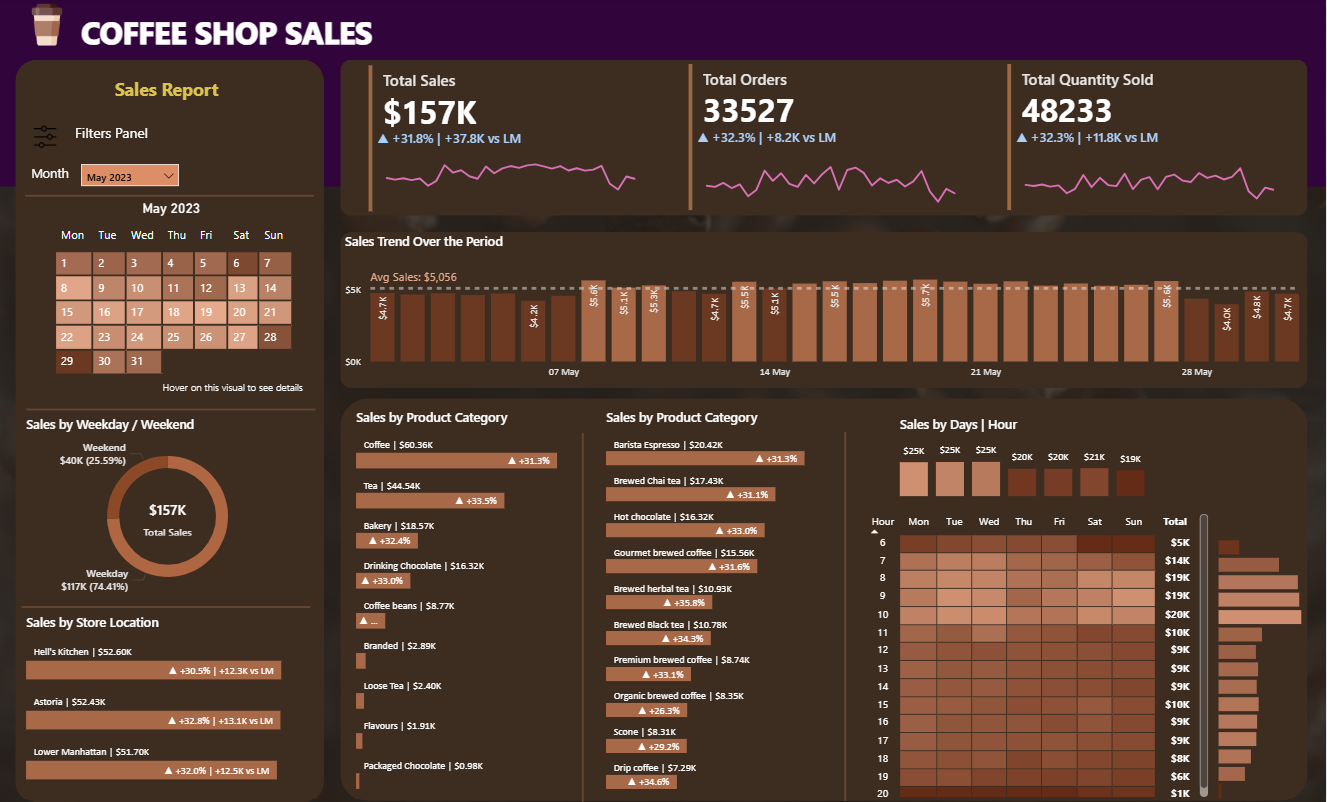

The dashboard page shown, as its layout file describes it:
{"tool":"powerbi","page":{"name":"Page 1","canvas":[1400,850],"ordinal":0},"visuals":[{"type":"shape","box":[0,0,1400,200.4],"z":0},{"type":"shape","box":[17.1,65.9,325.6,784.4],"z":1000},{"type":"shape","box":[359.9,65.9,1020.3,164.8],"z":2000},{"type":"textbox","box":[81.7,10.5,363.8,55.4],"z":3000},{"type":"cardVisual","fields":{"Data":["Transactions.Total Orders"]},"box":[721.7,65.9,300.6,164.8],"z":4000,"group":"g2"},{"type":"cardVisual","fields":{"Data":["Transactions.Total Quantity Sold"]},"box":[1058.6,65.9,300.6,164.8],"z":4000,"group":"g3"},{"type":"cardVisual","fields":{"Data":["Transactions.Total Sales"]},"box":[384.9,67.2,300.6,164.8],"z":4000,"group":"g1"},{"type":"slicer","fields":{"Values":["Date Table.Month Year"]},"box":[81.7,171.4,113.4,31.6],"z":4000},{"type":"group","id":"g1","title":"Group 1","box":[384.9,67.2,300.6,164.8],"z":5000},{"type":"group","id":"g2","title":"Group 1","box":[721.7,65.9,300.6,164.8],"z":6000},{"type":"lineChart","fields":{"Category":["Date Table.Date.Variation.Date Hierarchy.Year","Date Table.Date.Variation.Date Hierarchy.Quarter","Date Table.Date.Variation.Date Hierarchy.Month","Date Table.Date.Variation.Date Hierarchy.Day"],"Y":["Transactions.Total Orders"]},"box":[730.9,138.4,291.3,84.4],"z":6000,"group":"g2"},{"type":"lineChart","fields":{"Category":["Date Table.Date.Variation.Date Hierarchy.Year","Date Table.Date.Variation.Date Hierarchy.Quarter","Date Table.Date.Variation.Date Hierarchy.Month","Date Table.Date.Variation.Date Hierarchy.Day"],"Y":["Transactions.Total Quantity Sold"]},"box":[1067.8,138.4,291.3,84.4],"z":6000,"group":"g3"},{"type":"lineChart","fields":{"Y":["Transactions.Total Sales"],"Category":["Date Table.Date.Variation.Date Hierarchy.Year","Date Table.Date.Variation.Date Hierarchy.Quarter","Date Table.Date.Variation.Date Hierarchy.Month","Date Table.Date.Variation.Date Hierarchy.Day"]},"box":[394.1,139.7,291.3,84.4],"z":6000,"group":"g1"},{"type":"group","id":"g3","title":"Group 1","box":[1058.6,65.9,300.6,164.8],"z":7000},{"type":"pivotTable","fields":{"Rows":["Date Table.Week Number"],"Columns":["Date Table.Day Name"],"Values":["Min(Date Table.Day Number)"]},"box":[29,234.6,304.5,189.8],"z":8000},{"type":"card","fields":{"Values":["Min(Date Table.Month Year)"]},"box":[123.9,209.6,116,29],"z":9000},{"type":"card","fields":{"Values":["Transactions.Foot Note"]},"box":[159.5,399.4,174,25],"z":10000},{"type":"shape","box":[29,428.4,304.5,13.2],"z":11000},{"type":"shape","box":[27.7,203,304.5,13.2],"z":12000},{"type":"donutChart","title":"Sales by Weekday / Weekend","fields":{"Category":["Date Table.Weekday / Weekend"],"Y":["Transactions.Total Sales"]},"box":[23.7,441.6,308.5,195.1],"z":13000},{"type":"card","fields":{"Values":["Transactions.Total Sales"]},"box":[131.8,527.3,92.3,46.1],"z":14000},{"type":"shape","box":[23.7,636.7,304.5,13.2],"z":15000},{"type":"clusteredBarChart","title":"Sales by Store Location","fields":{"Category":["Transactions.store_location"],"Y":["Transactions.Placeholder","Transactions.Total Sales"]},"box":[23.7,649.9,304.5,183.2],"z":16000},{"type":"shape","box":[359.9,247.8,1020.3,164.8],"z":17000},{"type":"columnChart","title":"Sales Trend Over the Period","fields":{"Category":["Transactions.transaction_date"],"Y":["Transactions.Total Sales"]},"box":[359.9,247.8,1020.3,164.8],"z":18000},{"type":"shape","box":[359.9,423.2,1020.3,425.8],"z":19000},{"type":"clusteredBarChart","title":"Sales by Product Category","fields":{"Y":["Transactions.Placeholder","Transactions.Total Sales"],"Category":["Transactions.product_category"]},"box":[371.7,433.7,250.5,407.3],"z":20000},{"type":"shape","box":[609,460.1,13.2,390.2],"z":21000},{"type":"clusteredBarChart","title":"Sales by Product Category","fields":{"Y":["Transactions.Placeholder","Transactions.Total Sales"],"Category":["Transactions.product_type"]},"box":[635.4,433.7,250.5,407.3],"z":22000},{"type":"shape","box":[885.9,458.7,13.2,390.2],"z":23000},{"type":"pivotTable","fields":{"Rows":["Transactions.Hour"],"Columns":["Date Table.Day Name"],"Values":["Transactions.Total Sales"]},"box":[909.6,540.5,370.4,308.5],"z":24000},{"type":"barChart","fields":{"Category":["Transactions.Hour"],"Y":["Transactions.Total Sales"]},"box":[1281.3,560.3,98.9,290],"z":25000},{"type":"columnChart","title":"Sales by Days | Hour","fields":{"Y":["Transactions.Total Sales"],"Category":["Date Table.Day Name"]},"box":[945.2,441.6,268.9,91],"z":26000},{"type":"textbox","box":[29,171.4,52.7,31.6],"z":26001},{"type":"textbox","box":[109.4,79.1,134.5,39.5],"z":26002},{"type":"textbox","box":[75.1,127.9,101.5,33],"z":26003},{"type":"image","box":[29,127.9,39.5,39.5],"z":26004},{"type":"image","box":[23.7,0,54,58],"z":26005}]}

Visuals, with their boxes in screenshot pixels (x1, y1, x2, y2), scaled from the page's 1400x850 canvas onto the 1327x802 screenshot:
shape: rect(0, 0, 1326, 189)
shape: rect(16, 62, 325, 801)
shape: rect(341, 62, 1308, 218)
textbox: rect(77, 10, 422, 62)
cardVisual - Transactions.Total Orders: rect(684, 62, 969, 218)
cardVisual - Transactions.Total Quantity Sold: rect(1003, 62, 1288, 218)
cardVisual - Transactions.Total Sales: rect(365, 63, 650, 219)
slicer - Date Table.Month Year: rect(77, 162, 185, 192)
"Group 1" group: rect(365, 63, 650, 219)
"Group 1" group: rect(684, 62, 969, 218)
lineChart - Date Table.Date.Variation.Date Hierarchy.Year x Date Table.Date.Variation.Date Hierarchy.Quarter: rect(693, 131, 969, 210)
lineChart - Date Table.Date.Variation.Date Hierarchy.Year x Date Table.Date.Variation.Date Hierarchy.Quarter: rect(1012, 131, 1288, 210)
lineChart - Transactions.Total Sales x Date Table.Date.Variation.Date Hierarchy.Year: rect(374, 132, 650, 211)
"Group 1" group: rect(1003, 62, 1288, 218)
pivotTable - Date Table.Week Number x Date Table.Day Name: rect(27, 221, 316, 400)
card - Min(Date Table.Month Year): rect(117, 198, 227, 225)
card - Transactions.Foot Note: rect(151, 377, 316, 400)
shape: rect(27, 404, 316, 417)
shape: rect(26, 192, 315, 204)
"Sales by Weekday / Weekend" donutChart: rect(22, 417, 315, 601)
card - Transactions.Total Sales: rect(125, 498, 212, 541)
shape: rect(22, 601, 311, 613)
"Sales by Store Location" clusteredBarChart: rect(22, 613, 311, 786)
shape: rect(341, 234, 1308, 389)
"Sales Trend Over the Period" columnChart: rect(341, 234, 1308, 389)
shape: rect(341, 399, 1308, 801)
"Sales by Product Category" clusteredBarChart: rect(352, 409, 590, 794)
shape: rect(577, 434, 590, 801)
"Sales by Product Category" clusteredBarChart: rect(602, 409, 840, 794)
shape: rect(840, 433, 852, 801)
pivotTable - Transactions.Hour x Date Table.Day Name: rect(862, 510, 1213, 801)
barChart - Transactions.Hour x Transactions.Total Sales: rect(1214, 529, 1308, 801)
"Sales by Days | Hour" columnChart: rect(896, 417, 1151, 503)
textbox: rect(27, 162, 77, 192)
textbox: rect(104, 75, 231, 112)
textbox: rect(71, 121, 167, 152)
image: rect(27, 121, 65, 158)
image: rect(22, 0, 74, 55)
